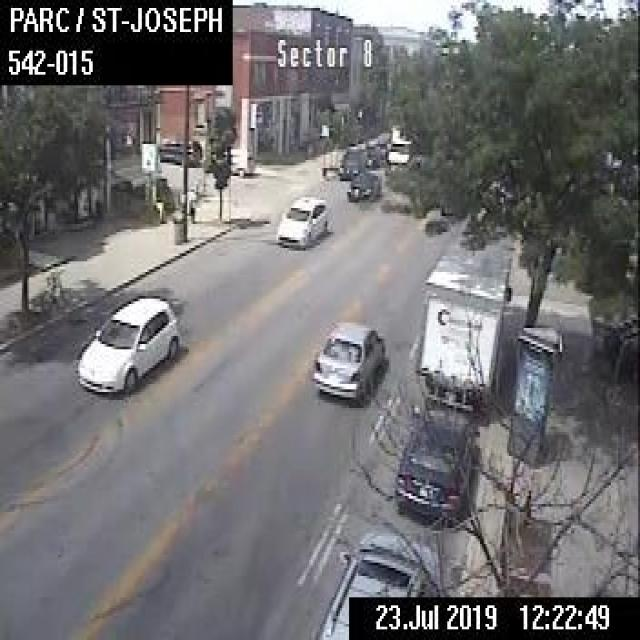pedestrian: (184, 181, 197, 224)
vehicle: (414, 218, 511, 414), (316, 528, 434, 637), (391, 404, 479, 525), (75, 291, 178, 392), (309, 315, 386, 405), (272, 193, 328, 248), (384, 122, 412, 166), (156, 138, 200, 164), (347, 168, 380, 200), (336, 146, 364, 176), (227, 144, 255, 173), (362, 141, 378, 167)
